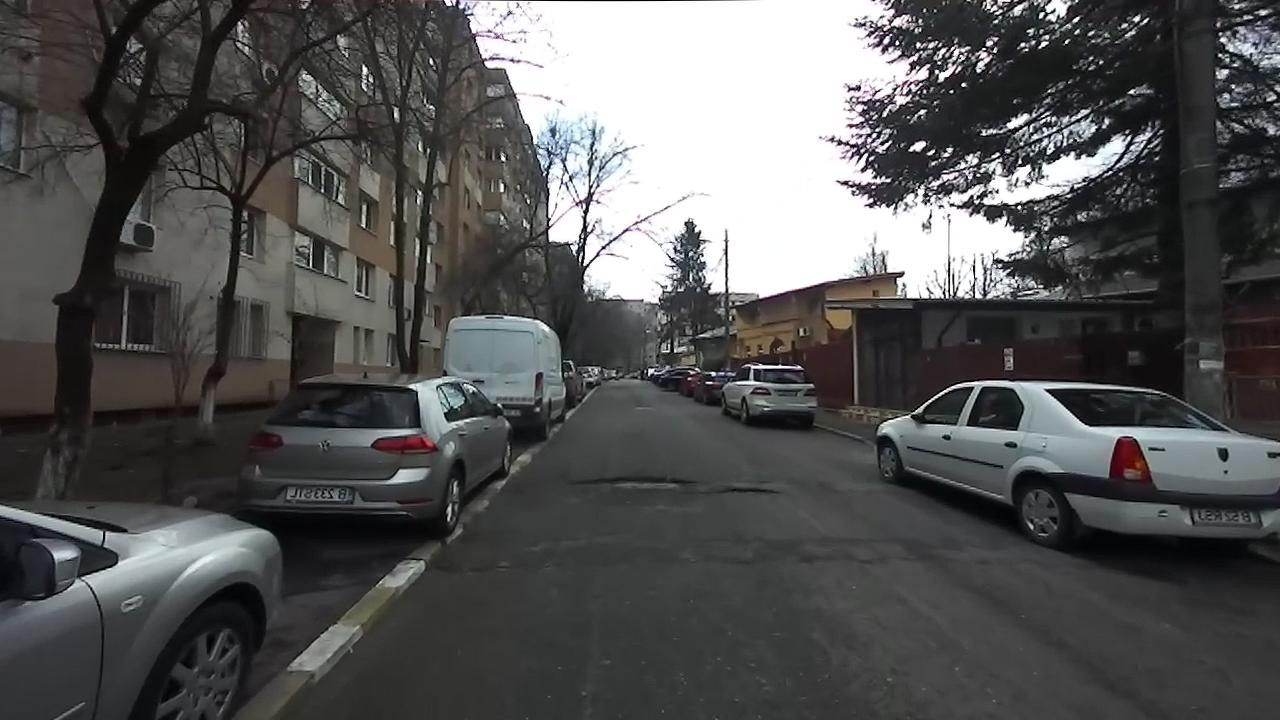pothole: (567, 473, 696, 495), (435, 554, 516, 577), (707, 483, 784, 497)
